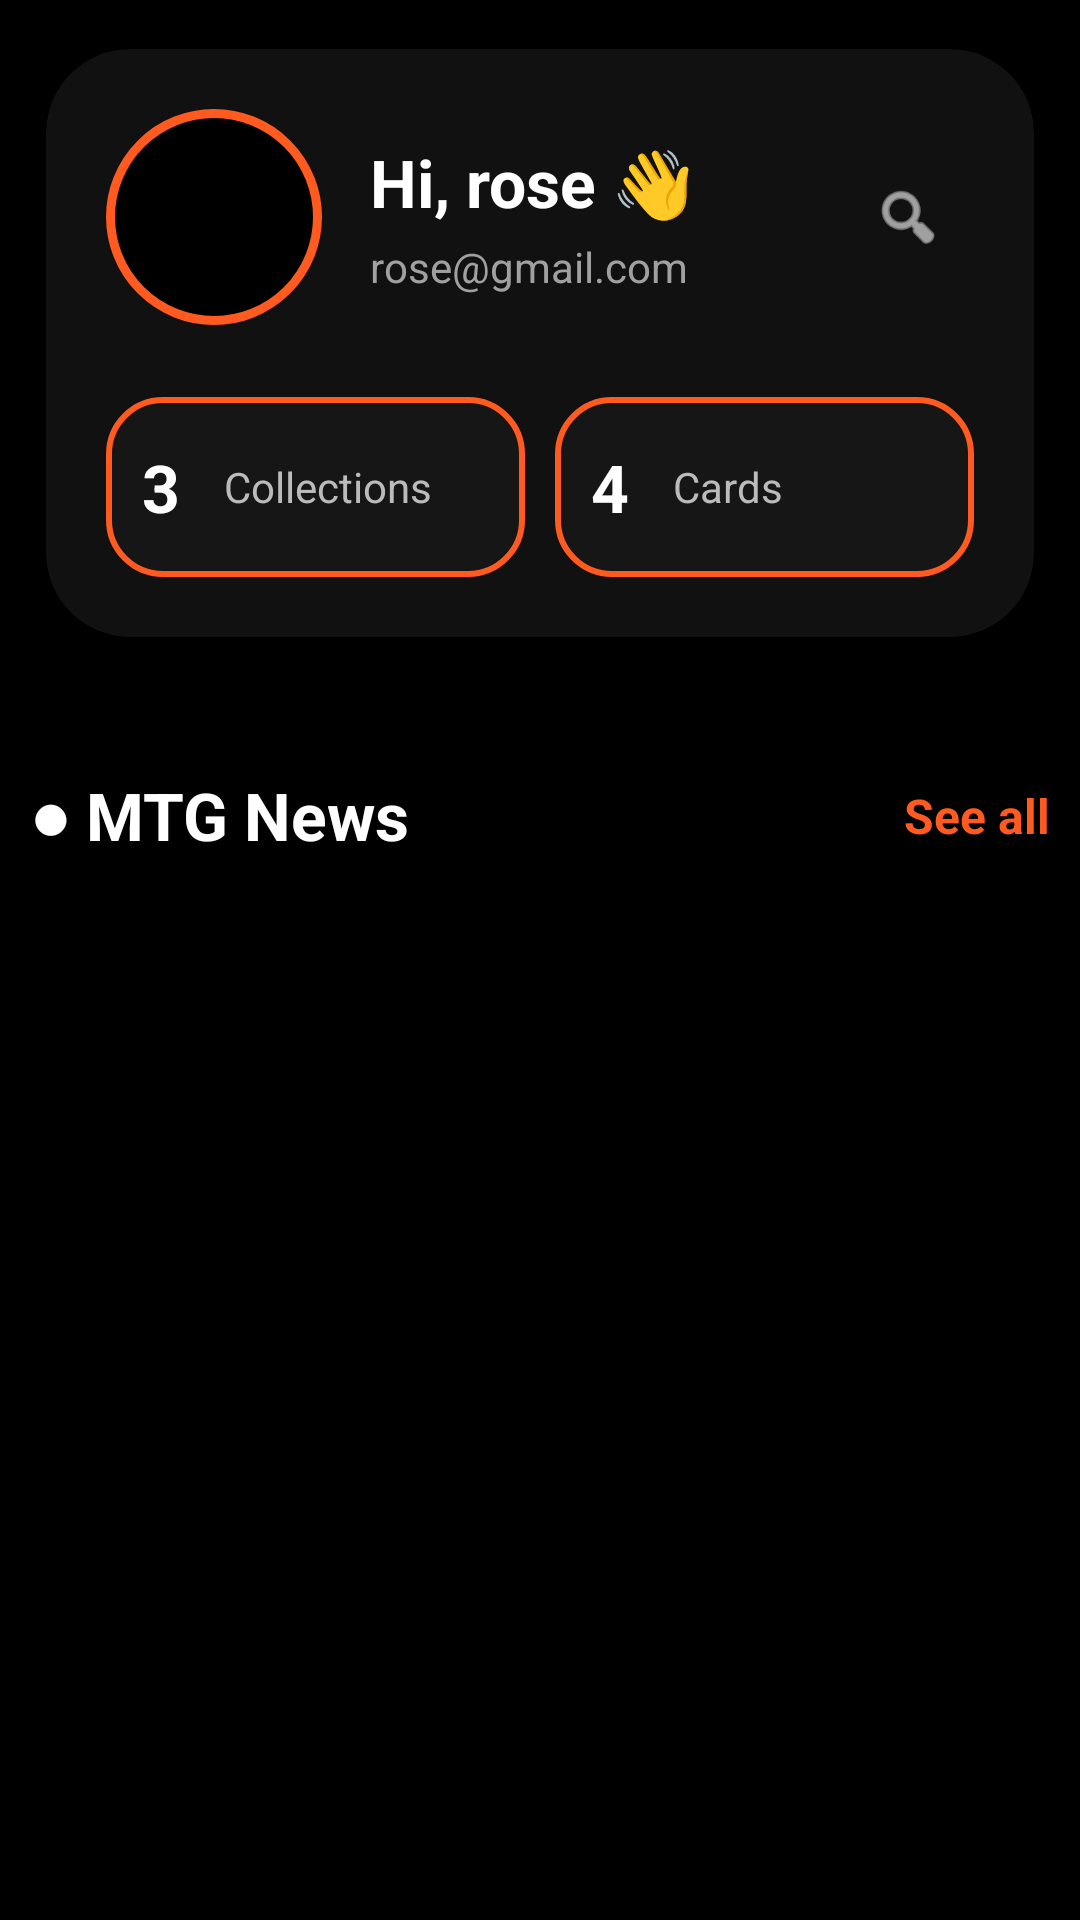

Named icons in this screenshot (1080px x 1920px) and their centers, (x,y):
search: (908,217)
